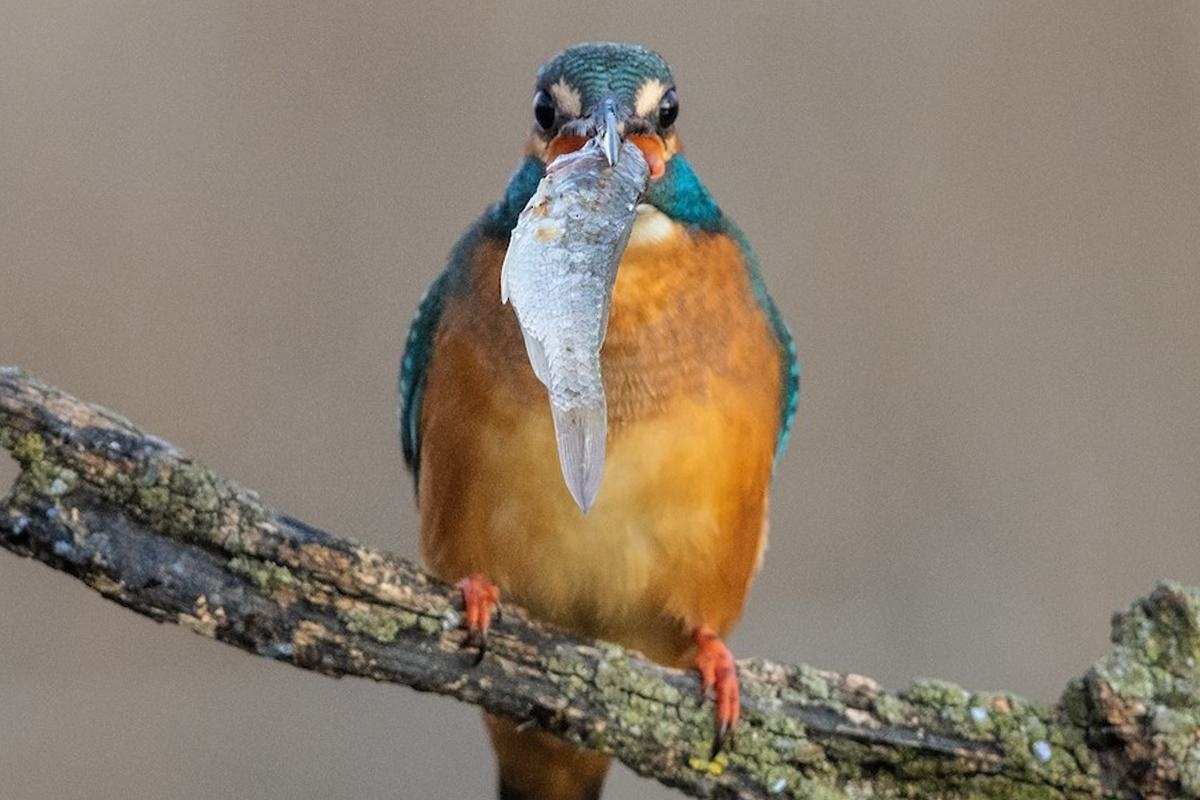kingfisher: (398, 41, 797, 723)
